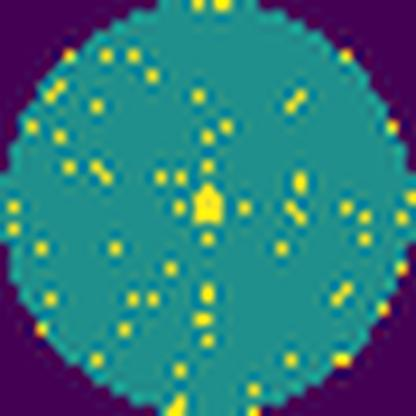Center: (189, 182, 231, 228)
